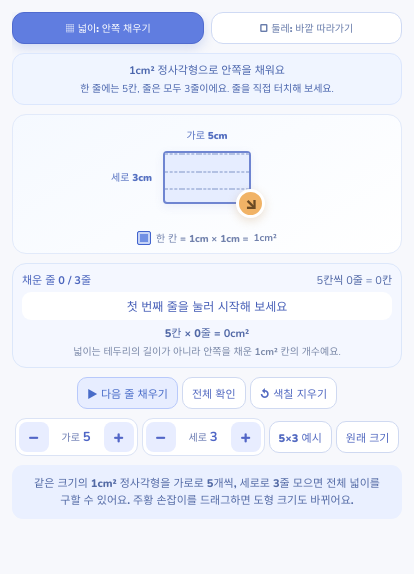
Test: 1cm² 넓이와 cm 둘레를 직접 탐구한다 › 5cm×3cm를 세 줄 채워 5+5+5=15칸, 15cm²의 원리를 보여준다
Expected: the text "한 칸 = 1cm × 1cm = 1cm²" is shown, 137,230 -> 277,246
Click the button named "1번째 줄, 1cm² 칸 5개" at (207, 162), box 165,153 -> 249,171
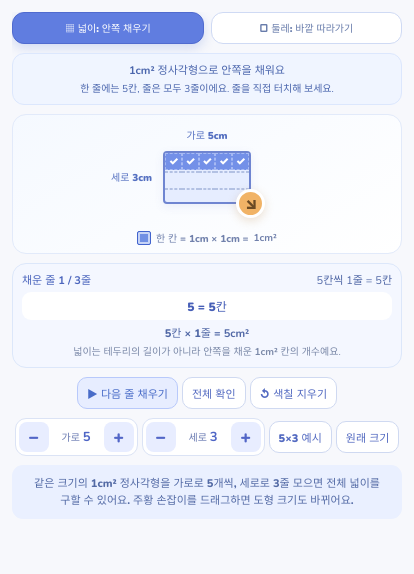
Expected: the text "5칸 × 1줄 =" is shown, 165,326 -> 249,341
Click the button named "2번째 줄, 1cm² 칸 5개" at (207, 179), box 165,171 -> 249,188
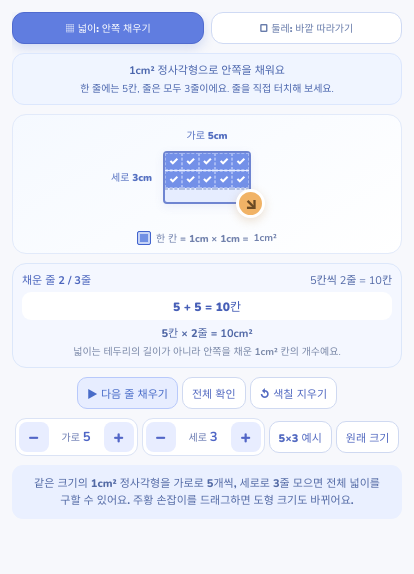
Click the button named "3번째 줄, 1cm² 칸 5개" at (207, 197), box 165,188 -> 249,206
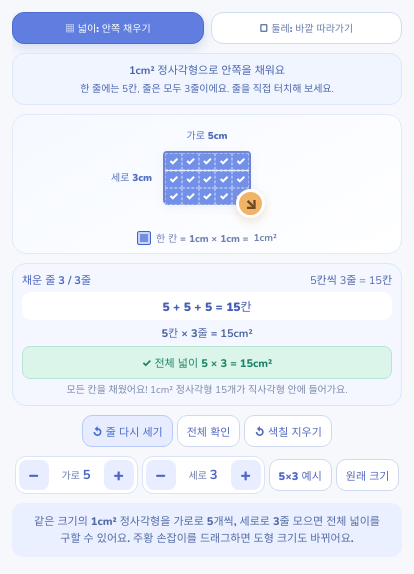
Expected: the text "5 + 5 + 5 = 15칸" is shown, 22,292 -> 392,320
Expected: the text "✓ 전체 넓이 5 × 3 = 15cm²" is shown, 22,346 -> 392,379
Expected: the text "모든 칸을 채웠어요! 1cm² 정사각형 15개가 직사각형 안에 들어가요." is shown, 66,383 -> 348,397
